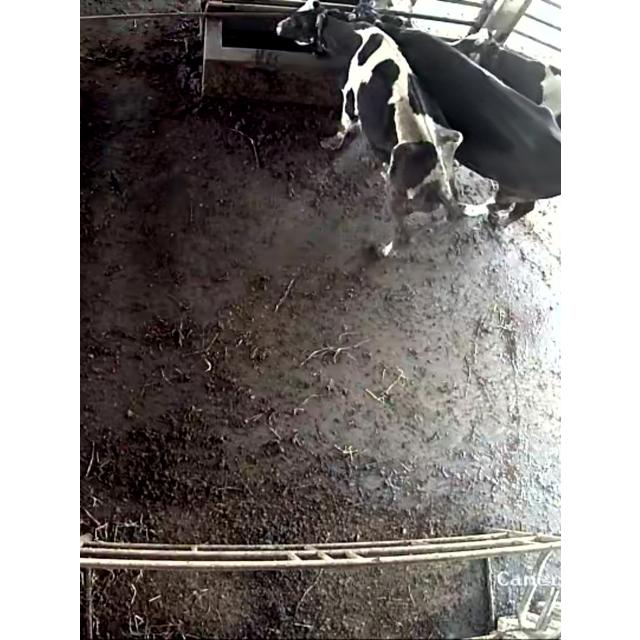drink: (338, 4, 452, 76)
